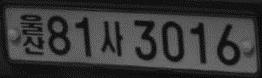0: (161, 20, 184, 62)
1: (73, 14, 93, 58), (188, 20, 207, 65)
3: (132, 18, 157, 62)
6: (214, 22, 241, 65)
8: (45, 14, 70, 56)
사: (100, 19, 124, 58)
울산_V: (19, 12, 45, 56)
